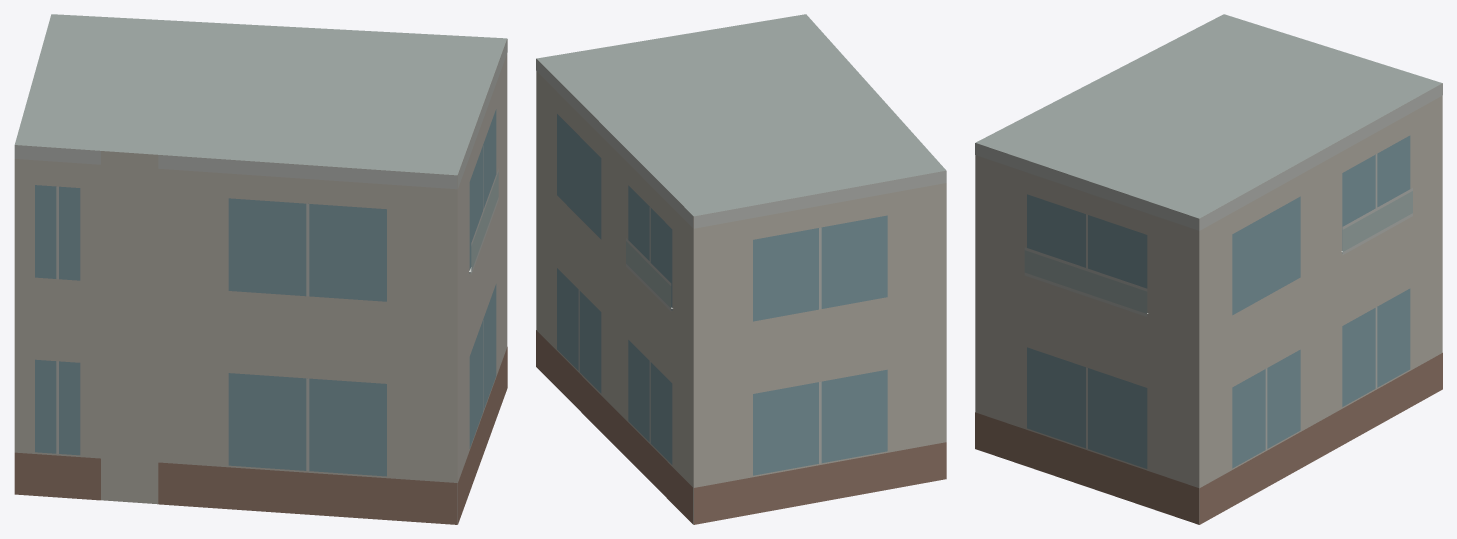
The model's file is survey-upis-32564184.glb.
3 views of the same model, side by side, from view 1: azimuth 30°, elevation 25°; view 2: azimuth 150°, elevation 25°; view 3: azimuth 270°, elevation 25° (orthographic). The views are drawn at different scales.
Visible parts, largest first — view 1: survey-upis-32564184.tmp; view 2: survey-upis-32564184.tmp; view 3: survey-upis-32564184.tmp.
Boxes of the visible parts, left/top/right/bottom form: survey-upis-32564184.tmp: left=14, top=14, right=507, bottom=524; survey-upis-32564184.tmp: left=536, top=14, right=946, bottom=524; survey-upis-32564184.tmp: left=975, top=14, right=1442, bottom=524.
Bounding box in the file's own units: 8.76 × 6.1 × 8.45.
